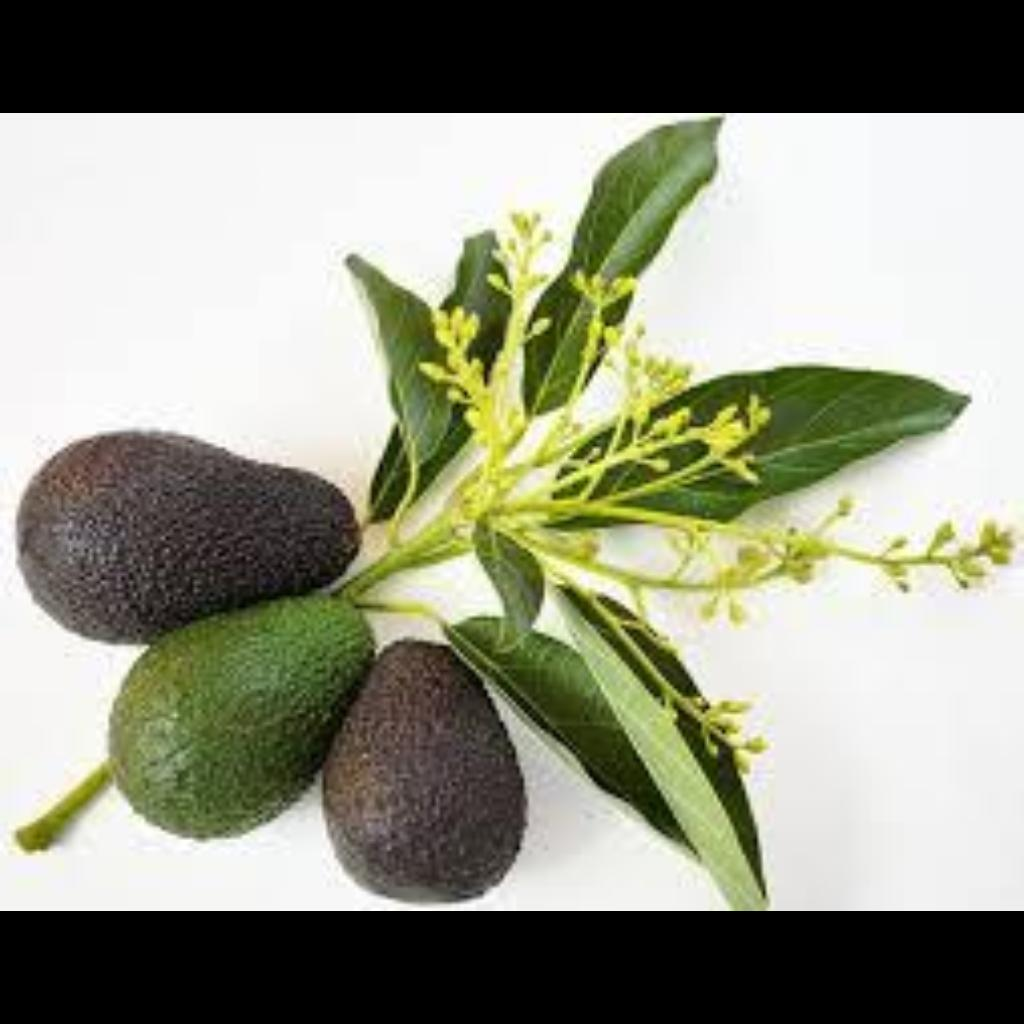antracnosis_fruto: (12, 430, 347, 615), (333, 637, 506, 891)
